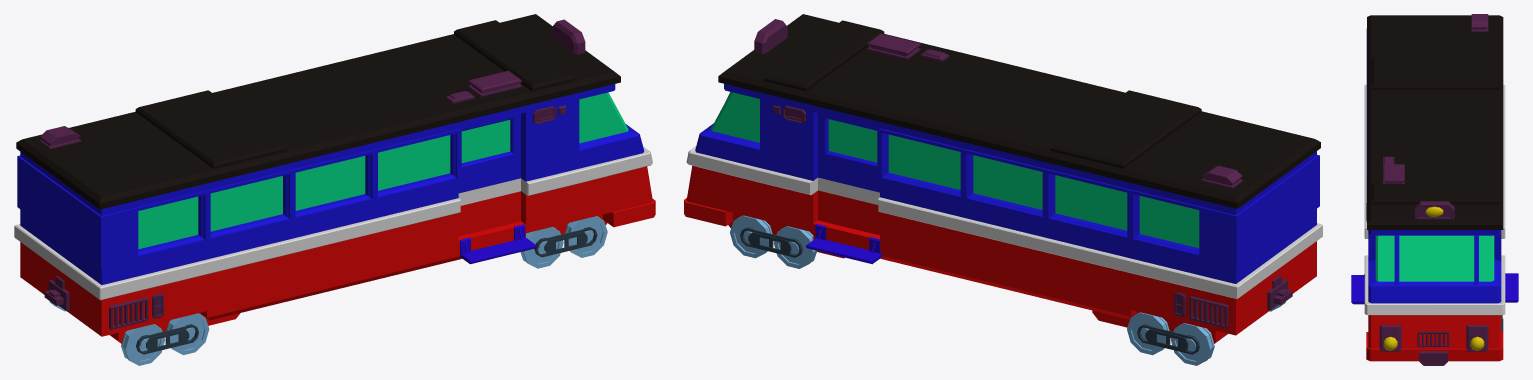
File: SM_Train_000.fbx
The picture shows the model from 3 angles, left to right: view 1: azimuth 30°, elevation 25°; view 2: azimuth 150°, elevation 25°; view 3: azimuth 270°, elevation 25°; orthographic projection. The views are drawn at different scales.
Parts seen in each view (by area): view 1: TrainModel; view 2: TrainModel; view 3: TrainModel.
Part boxes in pixels (left/top/right/bottom): TrainModel: left=14, top=14, right=655, bottom=365; TrainModel: left=684, top=14, right=1322, bottom=365; TrainModel: left=1351, top=14, right=1518, bottom=365.
Bounding box in the file's own units: 1413 × 466 × 440.
